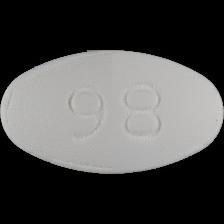0093-1048: (0, 0, 224, 224)
